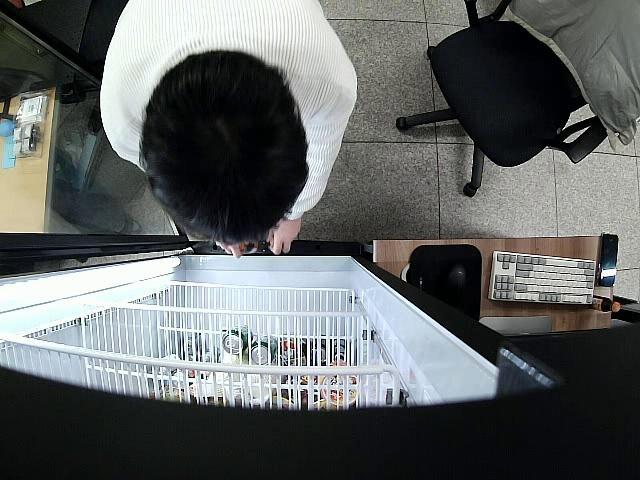17_vita500: (240, 242, 258, 253)
